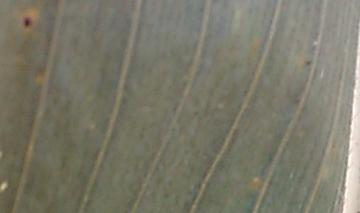tarspot: (22, 16, 32, 30), (303, 58, 312, 68)
